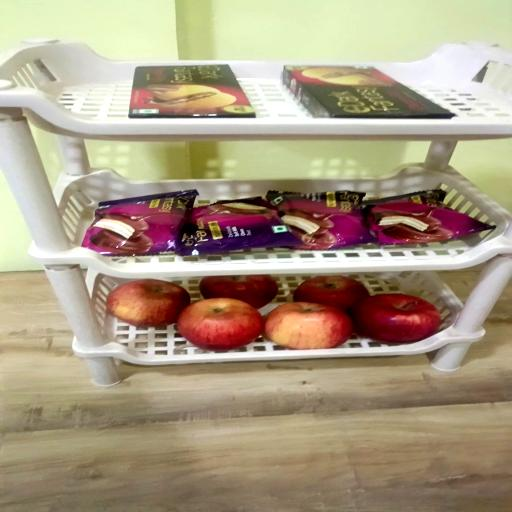Apple: (178, 299, 266, 351), (350, 294, 440, 344), (264, 302, 354, 350), (106, 280, 189, 328), (294, 276, 370, 313), (200, 275, 278, 309)
Choco Fills: (284, 64, 455, 119), (131, 63, 259, 118)
Choco Pie: (80, 192, 196, 258), (178, 197, 298, 256), (362, 192, 493, 246), (268, 192, 374, 253)
